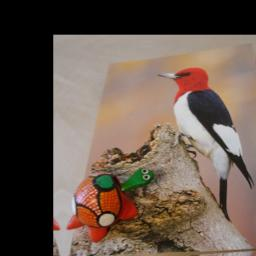Woodpecker: (157, 62, 256, 227)
